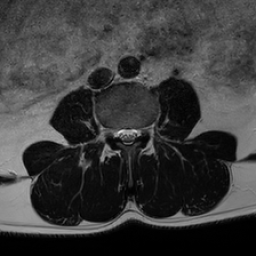CCS_stenosis: (124, 118, 131, 153)
LFS_normal: (138, 118, 146, 142)
LLS_normal: (131, 118, 138, 148)
RFS_normal: (108, 118, 116, 144)
RLS_normal: (116, 121, 124, 146)
